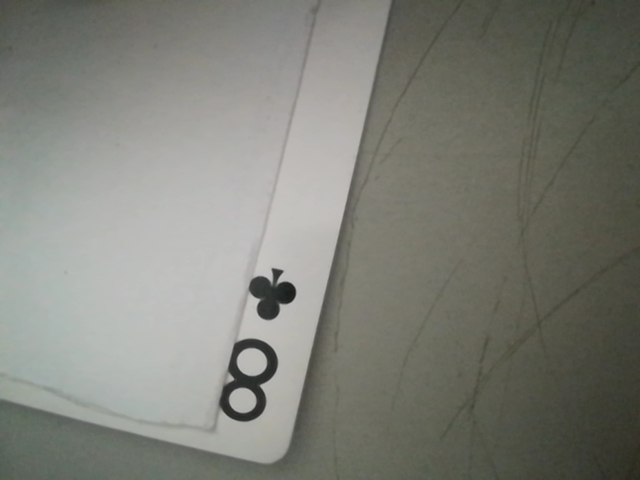mh 8: (206, 263, 310, 437)
